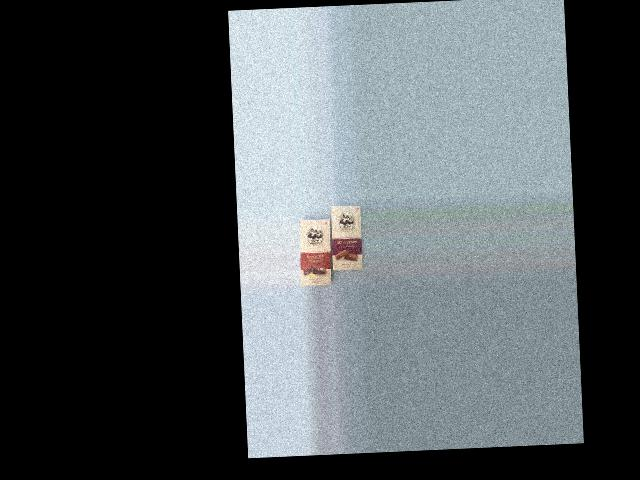chocolate: (296, 215, 339, 287)
